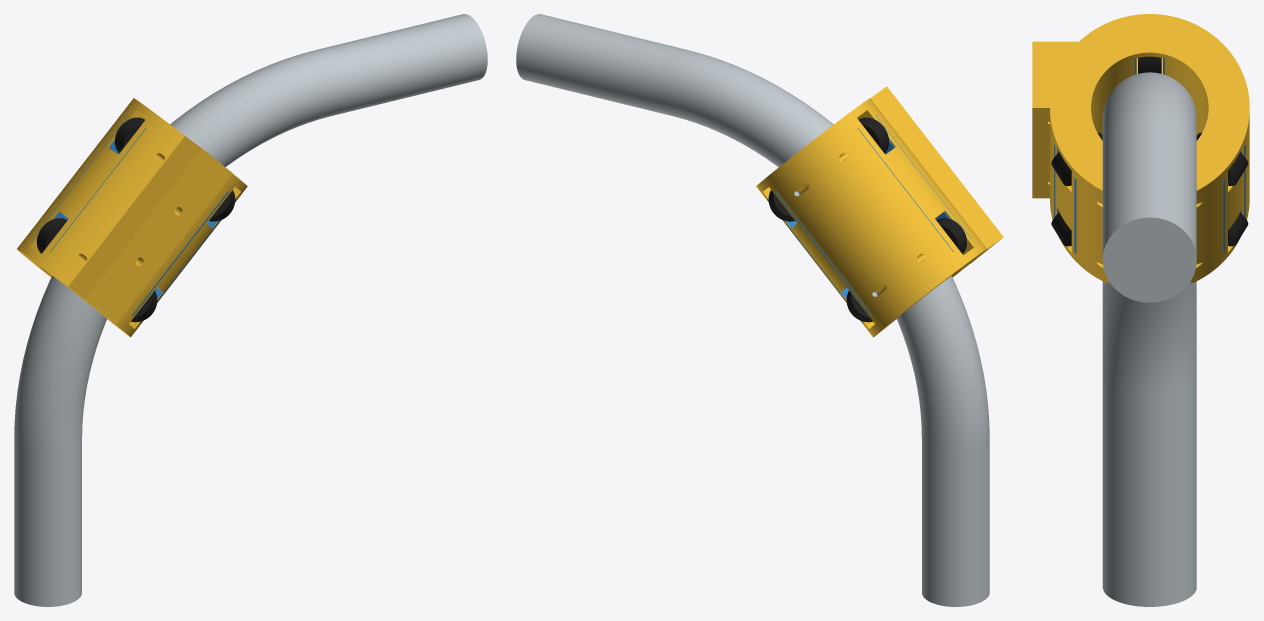
Rendered from cart-wheel-corner-v1.glb.
3 views of the same model, side by side, from view 1: azimuth 30°, elevation 25°; view 2: azimuth 150°, elevation 25°; view 3: azimuth 270°, elevation 25° (orthographic). The views are drawn at different scales.
Parts seen in each view (by area): view 1: track_pipe, hand_sleeve, driven_pair_wheels, idler_m60_wheels; view 2: track_pipe, hand_sleeve, driven_pair_wheels, idler_p60_wheels; view 3: track_pipe, hand_sleeve, idler_m60_wheels, idler_p60_wheels, driven_pair_wheels, idler_m60_carrier.
Boxes of the visible parts, <box> form: track_pipe: <box>14,14,487,606</box>; hand_sleeve: <box>17,98,247,337</box>; driven_pair_wheels: <box>37,117,144,253</box>; idler_m60_wheels: <box>131,190,235,322</box>; track_pipe: <box>516,14,989,606</box>; hand_sleeve: <box>756,86,1003,337</box>; driven_pair_wheels: <box>859,117,966,253</box>; idler_p60_wheels: <box>768,190,872,322</box>; track_pipe: <box>1102,72,1196,606</box>; hand_sleeve: <box>1032,14,1249,282</box>; idler_m60_wheels: <box>1051,132,1102,246</box>; idler_p60_wheels: <box>1196,132,1248,246</box>; driven_pair_wheels: <box>1138,56,1161,73</box>; idler_m60_carrier: <box>1054,144,1076,253</box>.
Size of the model in its own units: 246 by 246 by 74.
